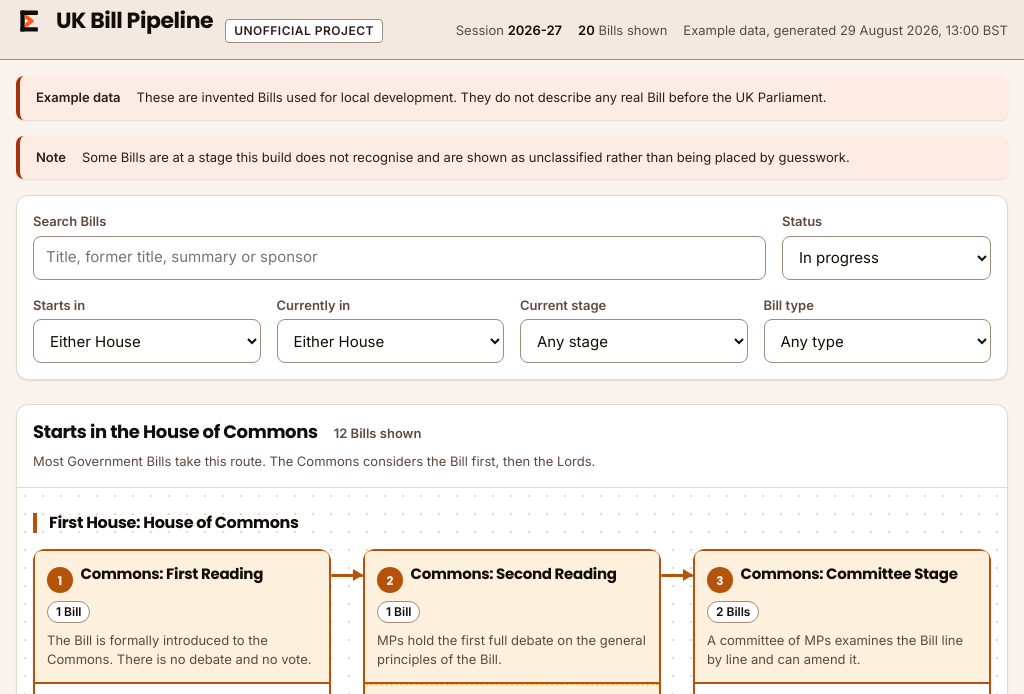
it: placement of Bills › shows Acts at Royal Assent when Acts are selected
Expected: the heading "Starts in the House of Commons" is shown, [33,421,318,444]
Select "Acts" in the dropdown labelled "Status". click: (886, 258)
box: [782,236,991,280]
(page scrolled)
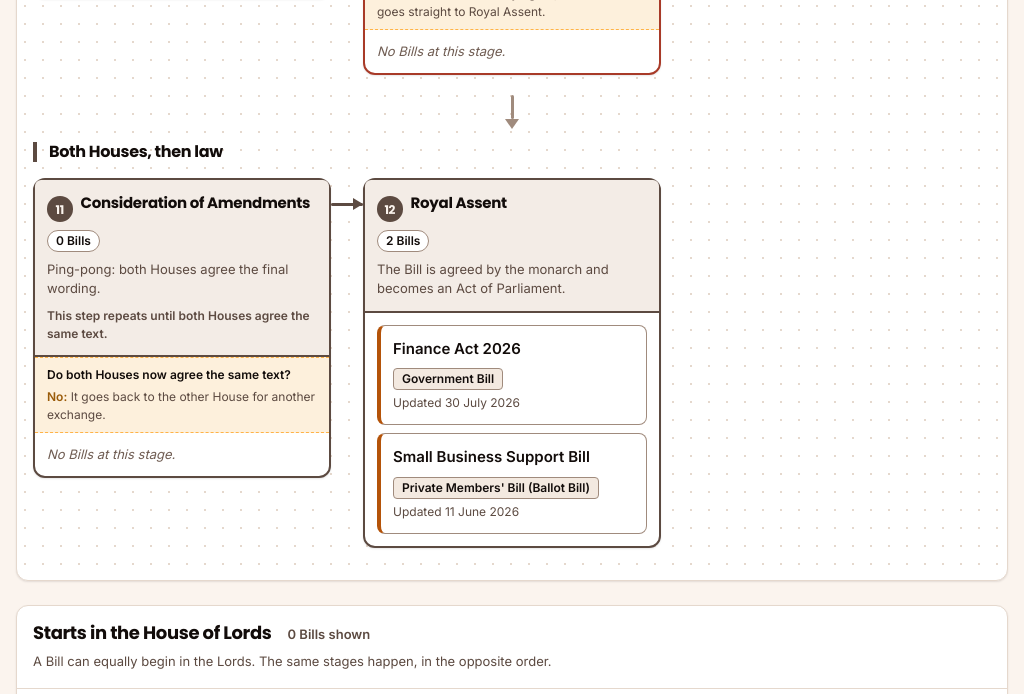
Expected: the button "Finance Act 2026 Government Bill Updated 30 July 2026" is shown, [377,325,647,426]
